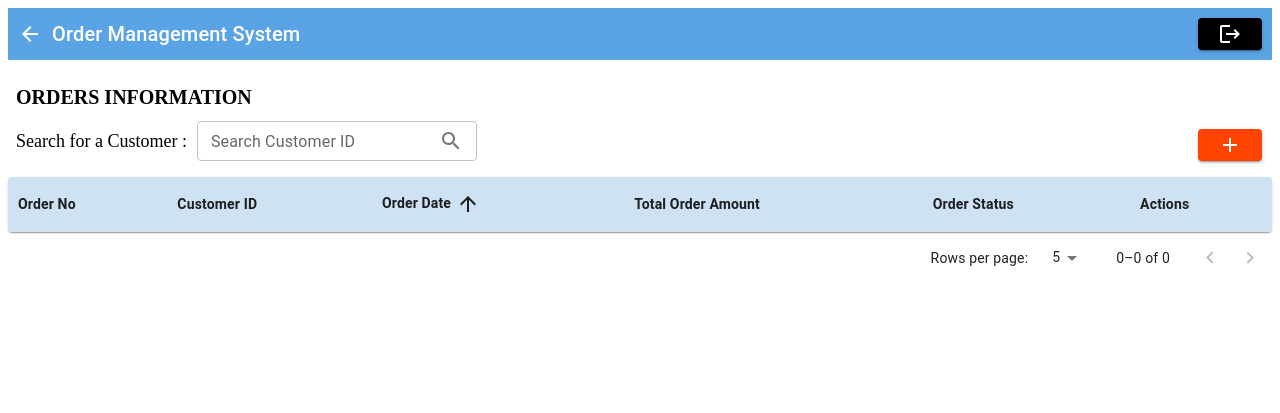
Order Component › user can sort orders by date
Click the button named "sort".
click(468, 204)  # box x1=451 y1=187 x2=485 y2=221
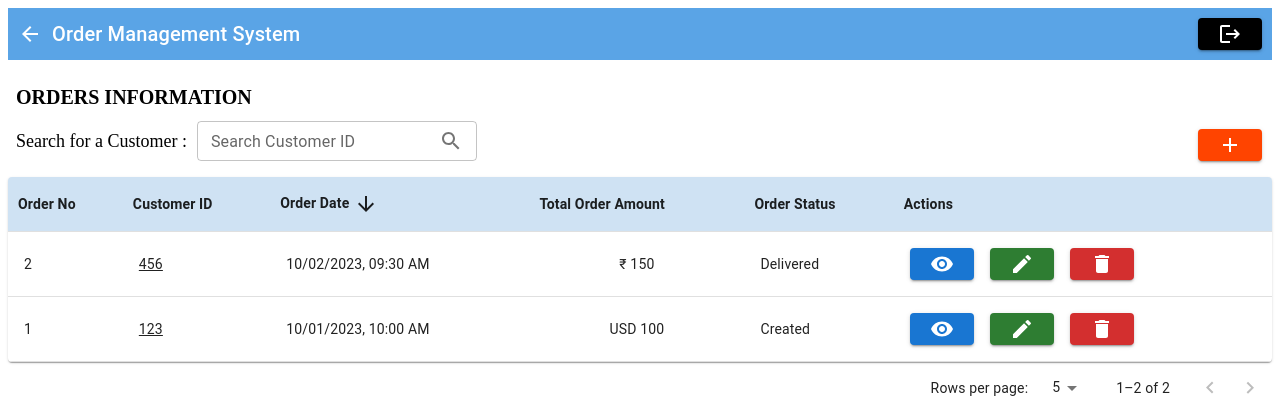
Expected: the text "2" is shown, x1=8 y1=232 x2=123 y2=296
Expected: the text "₹ 150" is shown, x1=529 y1=232 x2=744 y2=296
